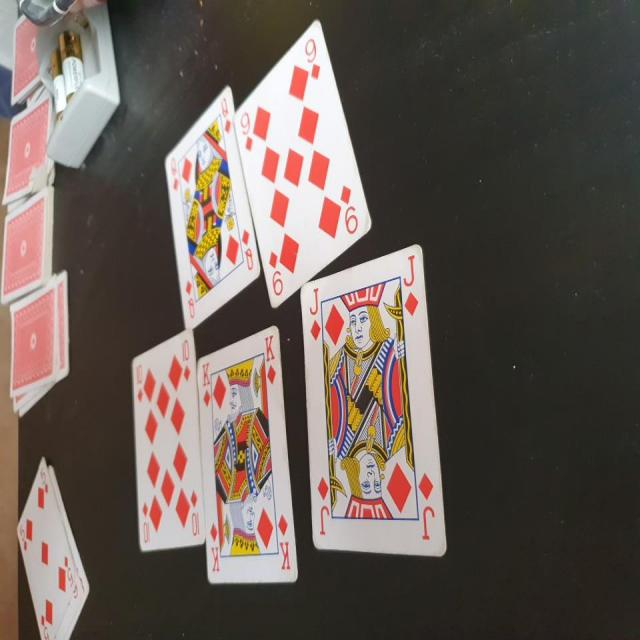10 Diamonds: (132, 325, 210, 554)
9 Diamonds: (232, 18, 374, 309)
J Diamonds: (296, 242, 449, 557)
K Diamonds: (197, 325, 299, 585)
Q Diamonds: (163, 82, 262, 325)
